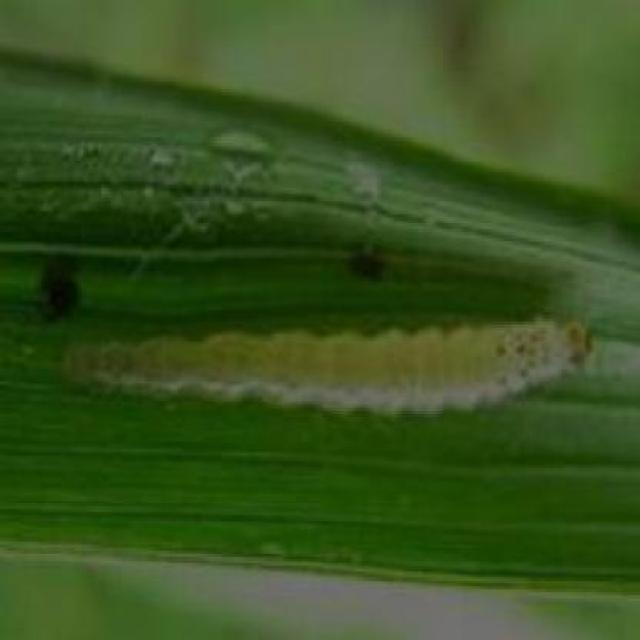leaf-folder: (34, 274, 612, 443)
